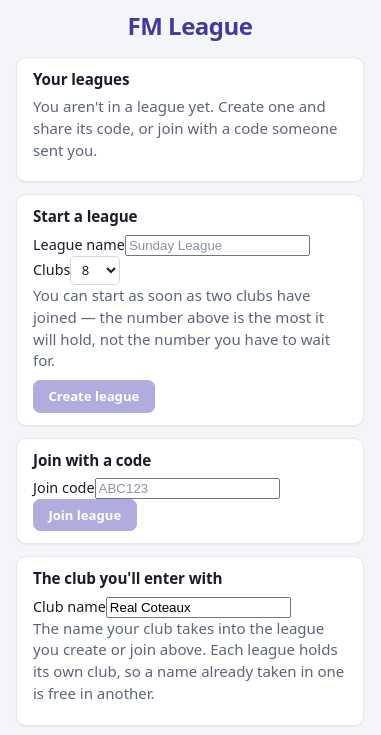
Test: A TYPO IN THE CODE COMES BACK AS THE CODE THEY TYPED, not a raw 404
In the field labelled "Join code": [187, 488] box [95,478,280,499], type "k7qm2z"
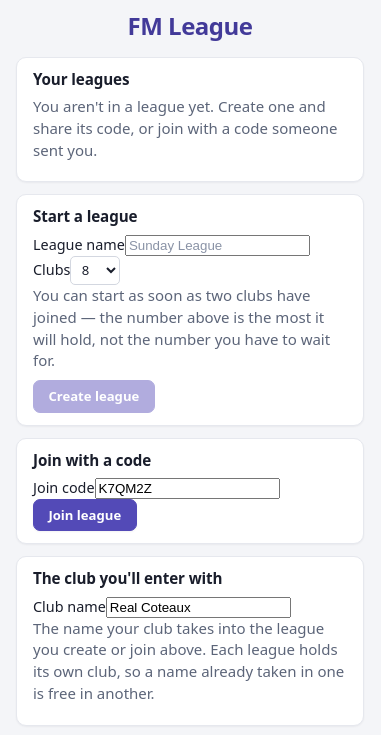
Click the button "Join league": [85, 515] box [33,499,137,531]
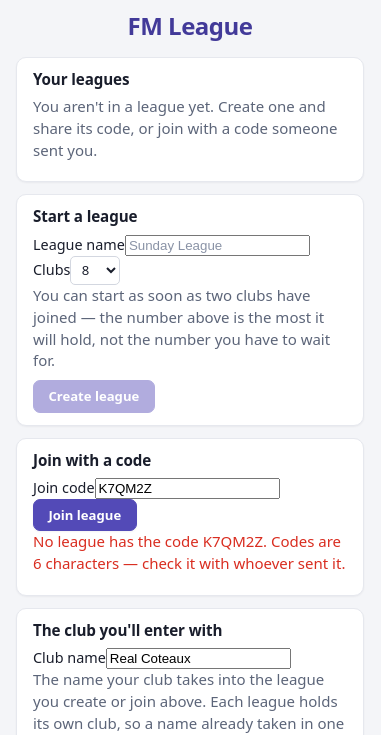
Check: the text "No league has the code K7QM2Z" is shown, box [33,531,345,573]
